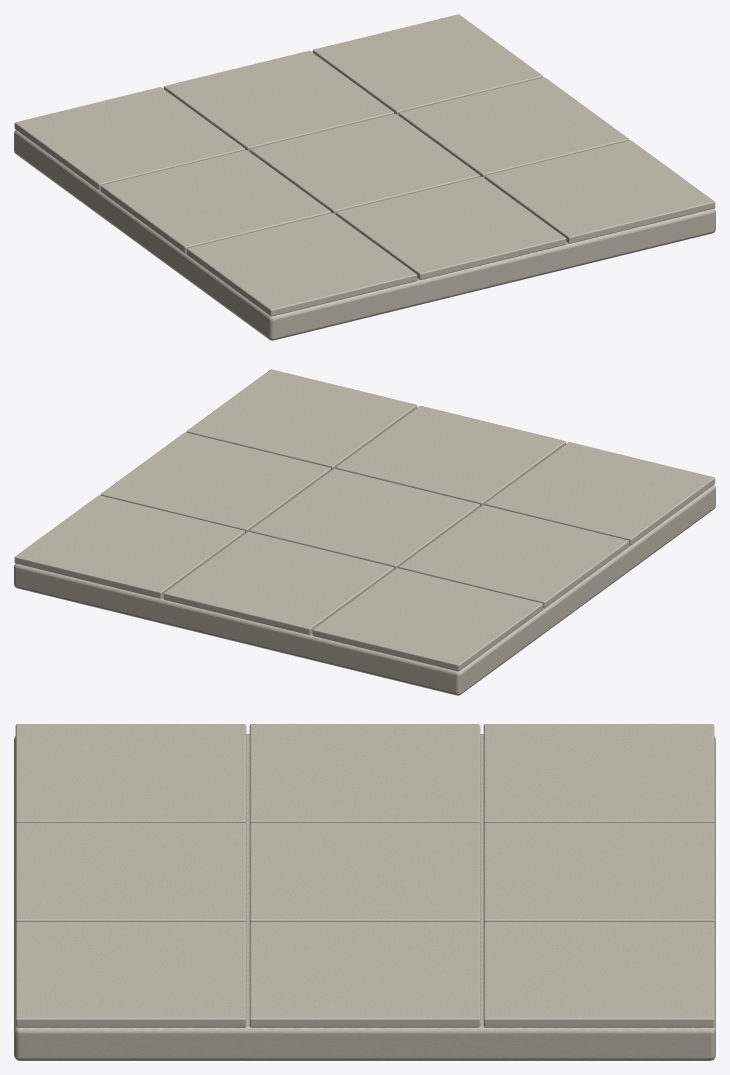
File: arcane-academy-and-spell-trials-courtyard-floor-1e904da6__28269.glb
3 views of the same model, one above another, from view 1: azimuth 30°, elevation 25°; view 2: azimuth 150°, elevation 25°; view 3: azimuth 270°, elevation 25° (orthographic). The views are drawn at different scales.
Visible parts, largest first — view 1: courtyard-floor; view 2: courtyard-floor; view 3: courtyard-floor.
Part boxes in pixels (x1=…): courtyard-floor: x1=14, y1=14, x2=715, y2=340; courtyard-floor: x1=14, y1=369, x2=715, y2=695; courtyard-floor: x1=14, y1=724, x2=715, y2=1060.
Bounding box in the file's own units: 3 × 0.2051 × 3.
1 material, 1 textured.
